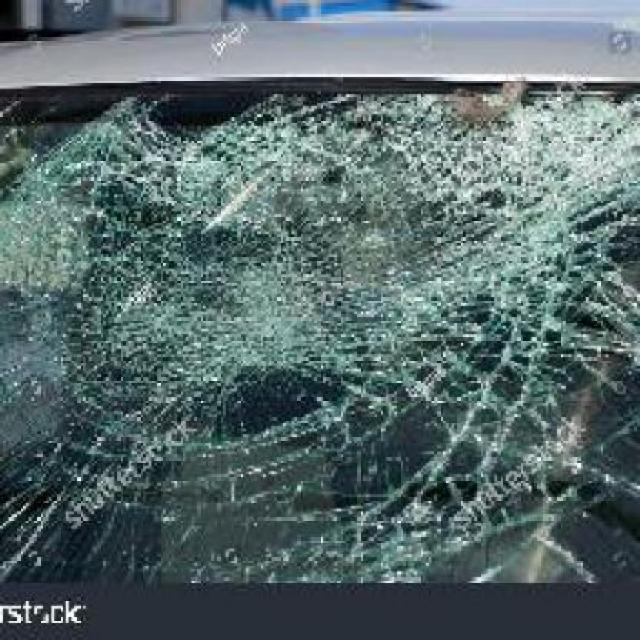damaged-windscreen: (0, 77, 637, 586)
